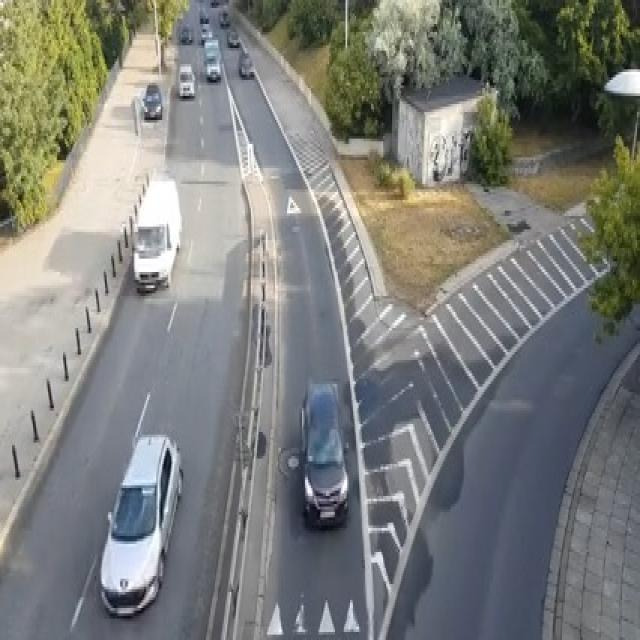bus: (130, 170, 182, 290)
car: (99, 432, 183, 616), (299, 379, 349, 528), (141, 83, 162, 120), (178, 64, 195, 96), (286, 195, 300, 232), (204, 51, 221, 80), (237, 51, 254, 77), (203, 37, 219, 59), (200, 24, 212, 45), (179, 24, 192, 43), (227, 30, 239, 46), (203, 37, 219, 48), (220, 8, 228, 27), (198, 8, 209, 21), (208, 0, 219, 5)
